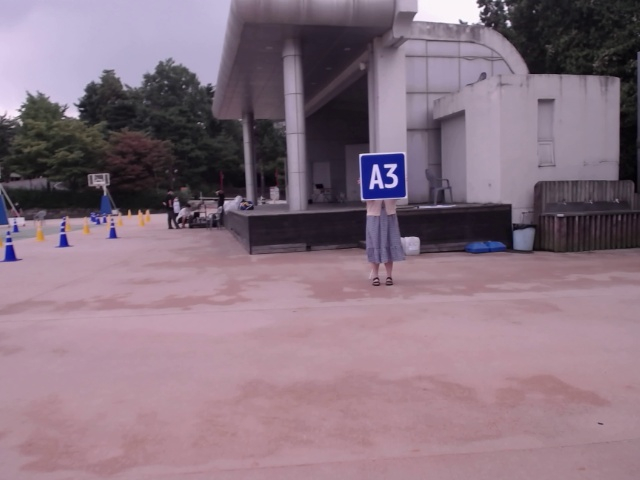delivery_a3: (359, 153, 407, 199)
